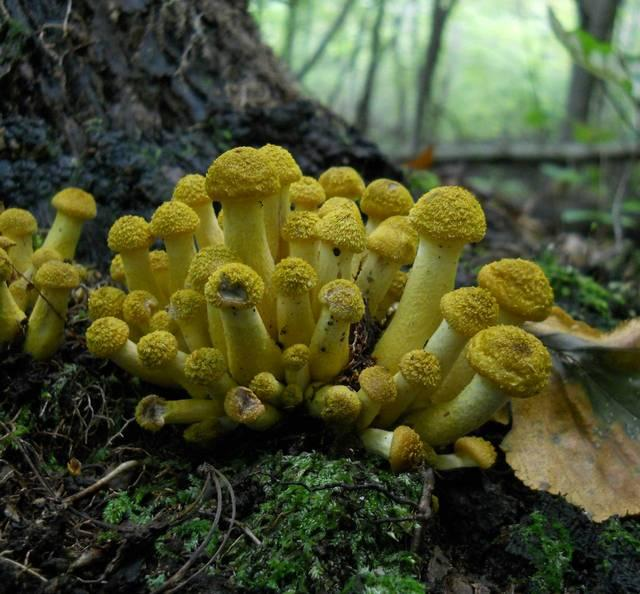Edible Mushroom: (0, 142, 639, 482)
